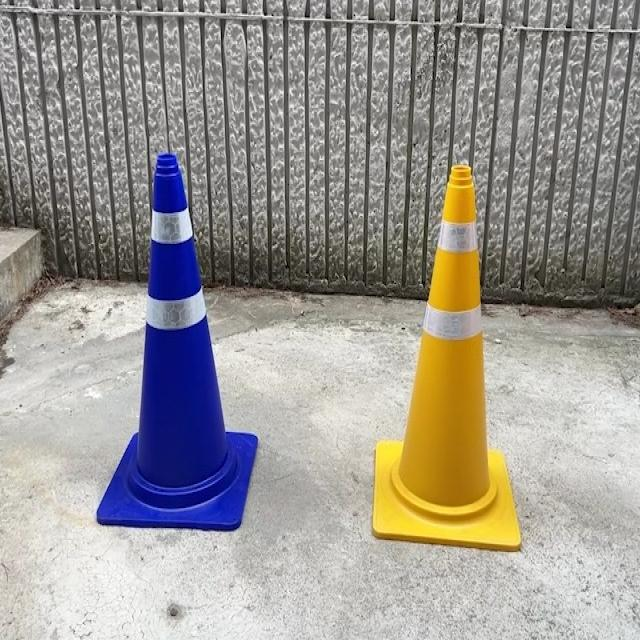b_rub: (96, 153, 258, 530)
y_rub: (373, 165, 522, 551)
